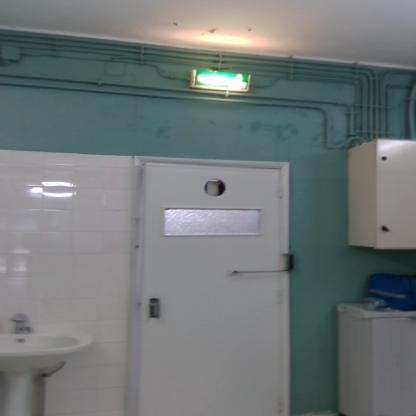closed: (126, 144, 307, 415)
